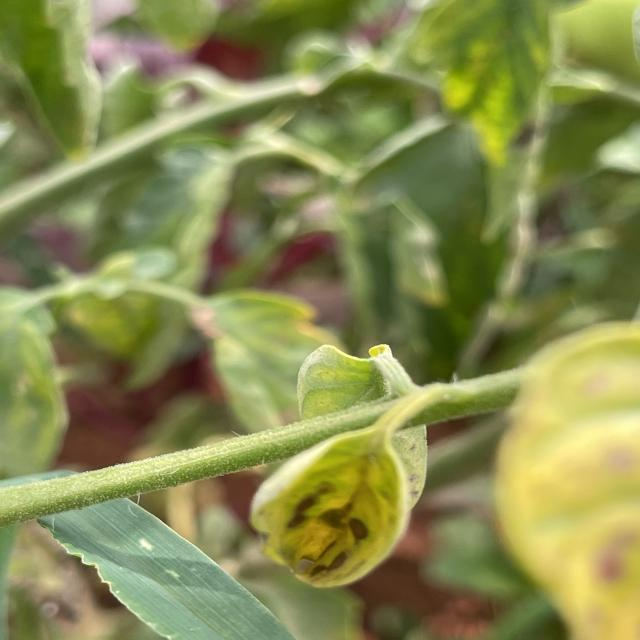tomato_early blight: (500, 330, 640, 640), (246, 416, 414, 586), (180, 288, 354, 449), (295, 343, 426, 525)
